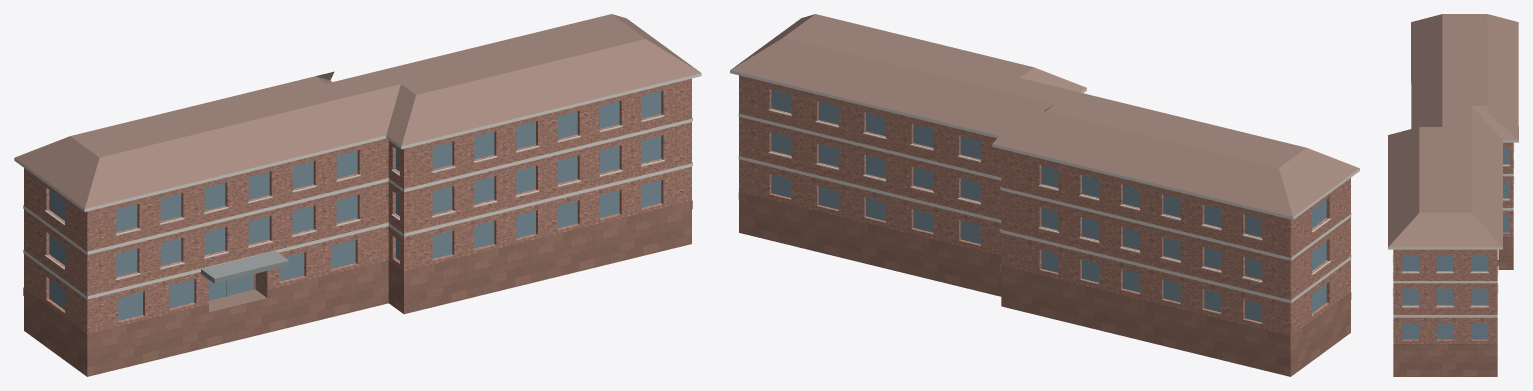
3 views of the same model, side by side, from view 1: azimuth 30°, elevation 25°; view 2: azimuth 150°, elevation 25°; view 3: azimuth 270°, elevation 25° (orthographic). The views are drawn at different scales.
Visible parts, largest first — view 1: startupVillageW5_2__wall, startupVillageW5_2__roof, startupVillageW5_2__base, startupVillageW5_2__glass, startupVillageW5_2__trim, startupVillageW5_2__canopy; view 2: startupVillageW5_2__wall, startupVillageW5_2__roof, startupVillageW5_2__base, startupVillageW5_2__glass, startupVillageW5_2__trim; view 3: startupVillageW5_2__roof, startupVillageW5_2__wall, startupVillageW5_2__base, startupVillageW5_2__glass, startupVillageW5_2__trim.
Boxes of the visible parts, x1,y1,x2,y2 form: startupVillageW5_2__wall: (24,78,691,341); startupVillageW5_2__roof: (15,14,701,312); startupVillageW5_2__base: (23,200,692,376); startupVillageW5_2__glass: (49,91,661,320); startupVillageW5_2__trim: (14,73,701,299); startupVillageW5_2__canopy: (200,251,288,283); startupVillageW5_2__wall: (739,75,1350,343); startupVillageW5_2__roof: (730,14,1359,216); startupVillageW5_2__base: (738,192,1351,376); startupVillageW5_2__glass: (771,89,1326,322); startupVillageW5_2__trim: (730,70,1359,302); startupVillageW5_2__roof: (1388,14,1518,247); startupVillageW5_2__wall: (1393,142,1513,343); startupVillageW5_2__base: (1393,237,1513,376); startupVillageW5_2__glass: (1402,147,1509,339); startupVillageW5_2__trim: (1388,81,1518,317).
Size of the model in its own units: 45.21 by 14.34 by 11.09.
Materials: 8 (2 with a texture image).
